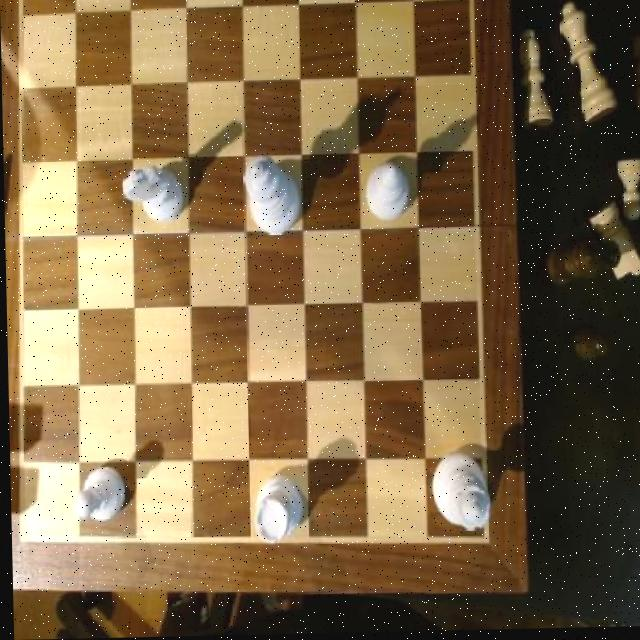black-rook: (357, 160, 415, 232)
white-bishop: (240, 155, 301, 245)
white-king: (118, 158, 184, 235)
white-knight: (70, 461, 130, 534)
white-pawn: (422, 449, 488, 541)
white-queen: (247, 475, 303, 549)
